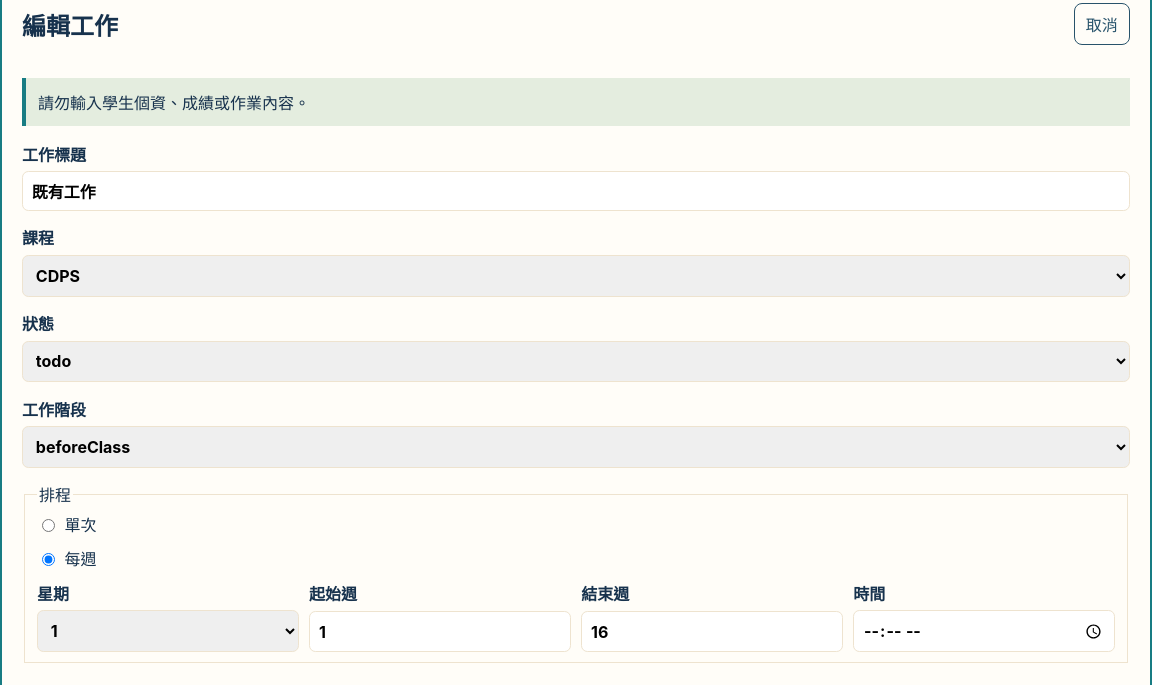
TaskEditor › rejects an invalid weekly range before updating an existing task or its stored data
Replace the text in the number field labelled "起始週" with "16". click: (440, 632)
box: x1=309 y1=612 x2=571 y2=652
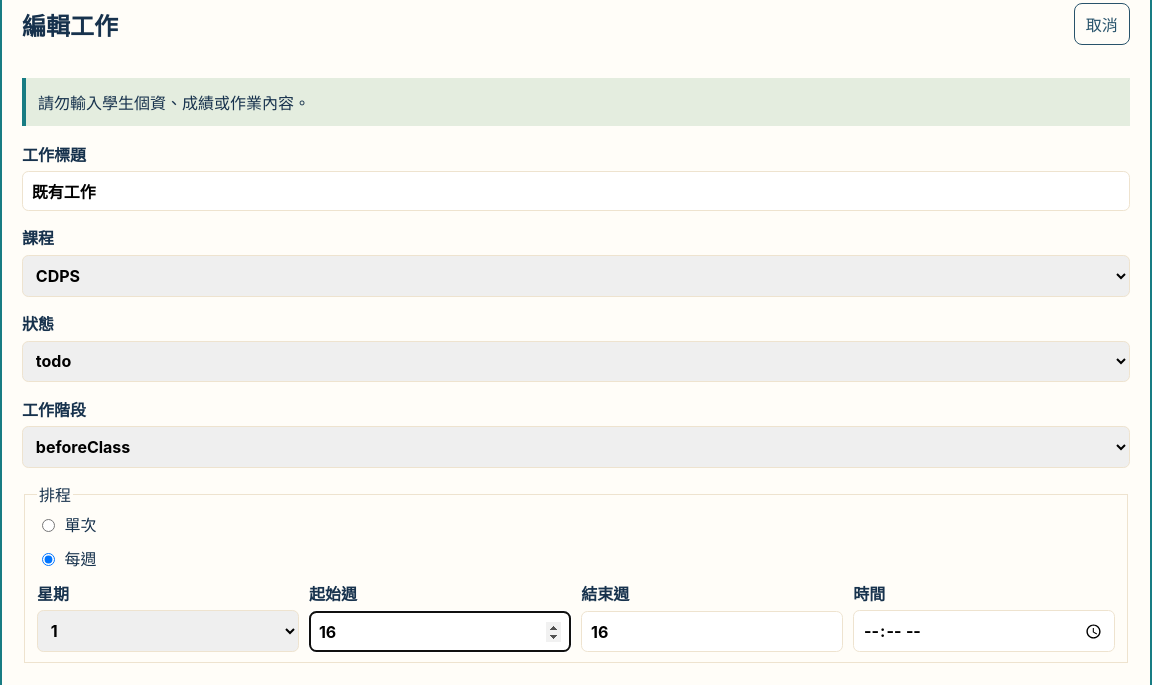
Replace the text in the number field labelled "結束週" with "1". click: (712, 632)
box: x1=581 y1=612 x2=843 y2=652
(page scrolled)
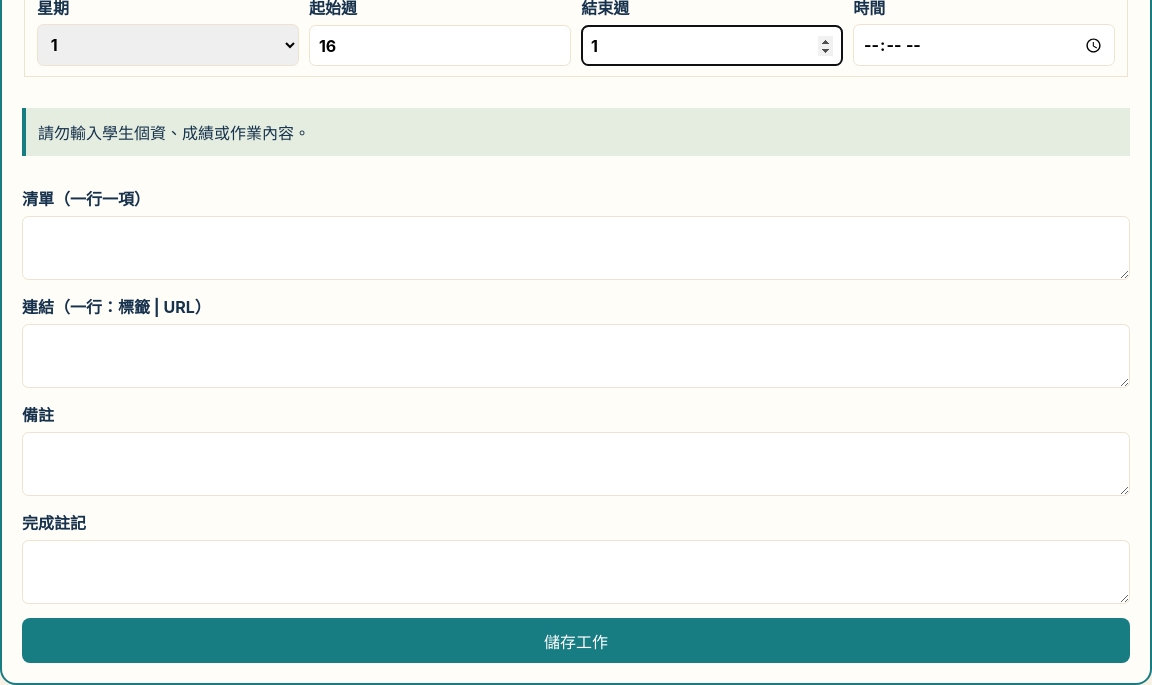
Click the button "儲存工作". click: (576, 641)
box: x1=22 y1=618 x2=1130 y2=663
(page scrolled)
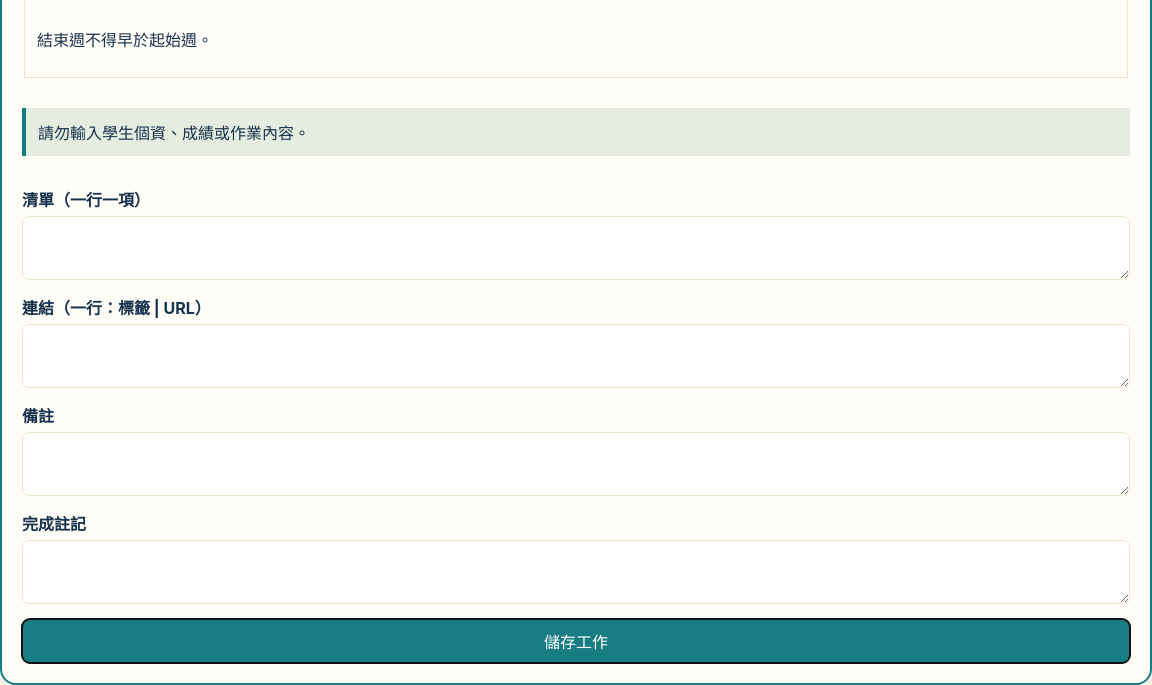
Result: the message reads "結束週不得早於起始週。" at x1=37 y1=30 x2=213 y2=50
